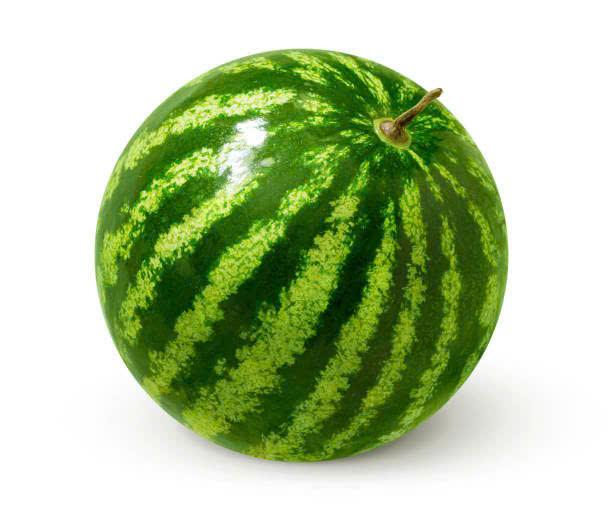watermelon: (76, 26, 550, 453)
